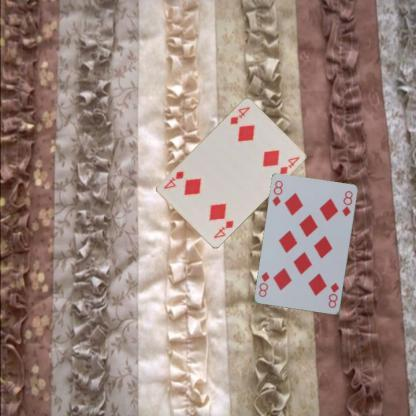4d: (210, 217, 235, 239), (228, 104, 252, 125)
8d: (326, 280, 340, 310), (270, 178, 284, 208)
